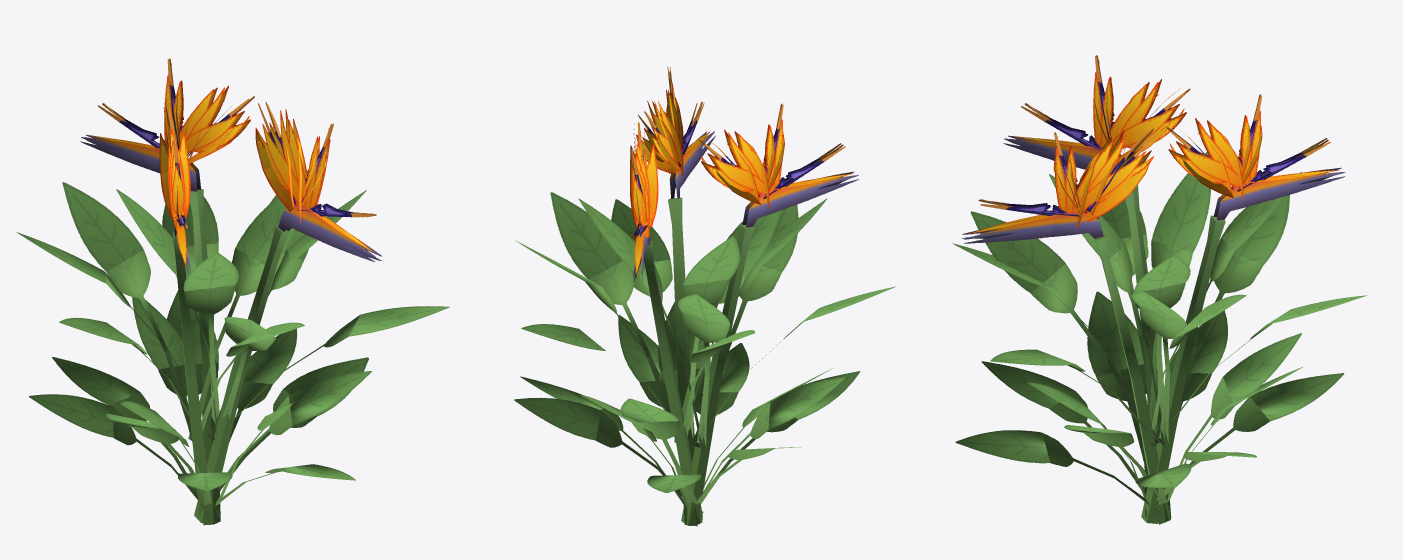
The model's file is BirdOfParadiseHand.fbx.
The picture shows the model from 3 angles, left to right: view 1: azimuth 30°, elevation 25°; view 2: azimuth 150°, elevation 25°; view 3: azimuth 270°, elevation 25°; orthographic projection. The views are drawn at different scales.
Visible parts, largest first — view 1: Leaves (1), Leaves (3), Leaves (2); view 2: Leaves (1), Leaves (2), Leaves (3); view 3: Leaves (3), Leaves (2), Leaves (1).
Part boxes in pixels (left/top/right/bottom): Leaves (1): left=29, top=108, right=371, bottom=515; Leaves (3): left=116, top=102, right=449, bottom=523; Leaves (2): left=16, top=58, right=366, bottom=525; Leaves (1): left=578, top=103, right=895, bottom=526; Leaves (2): left=514, top=122, right=845, bottom=522; Leaves (3): left=515, top=66, right=832, bottom=524; Leaves (3): left=955, top=128, right=1301, bottom=524; Leaves (2): left=1027, top=94, right=1366, bottom=523; Leaves (1): left=952, top=55, right=1302, bottom=523.
Bounding box in the file's own units: 1.48 × 1.71 × 1.5.
